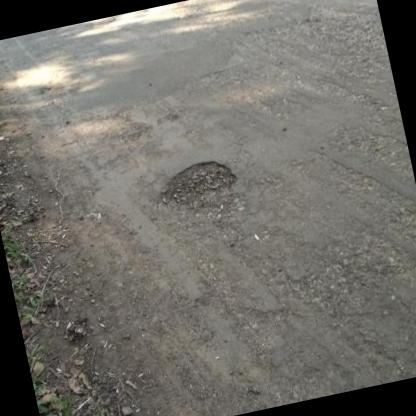pothole: (148, 152, 242, 214)
